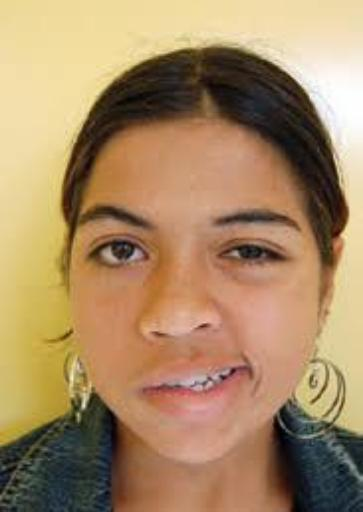left_eye: (216, 245, 290, 273)
left_lip_corner: (234, 356, 255, 381)
right_eye: (89, 239, 151, 270)
right_lip_corner: (134, 375, 159, 400)
